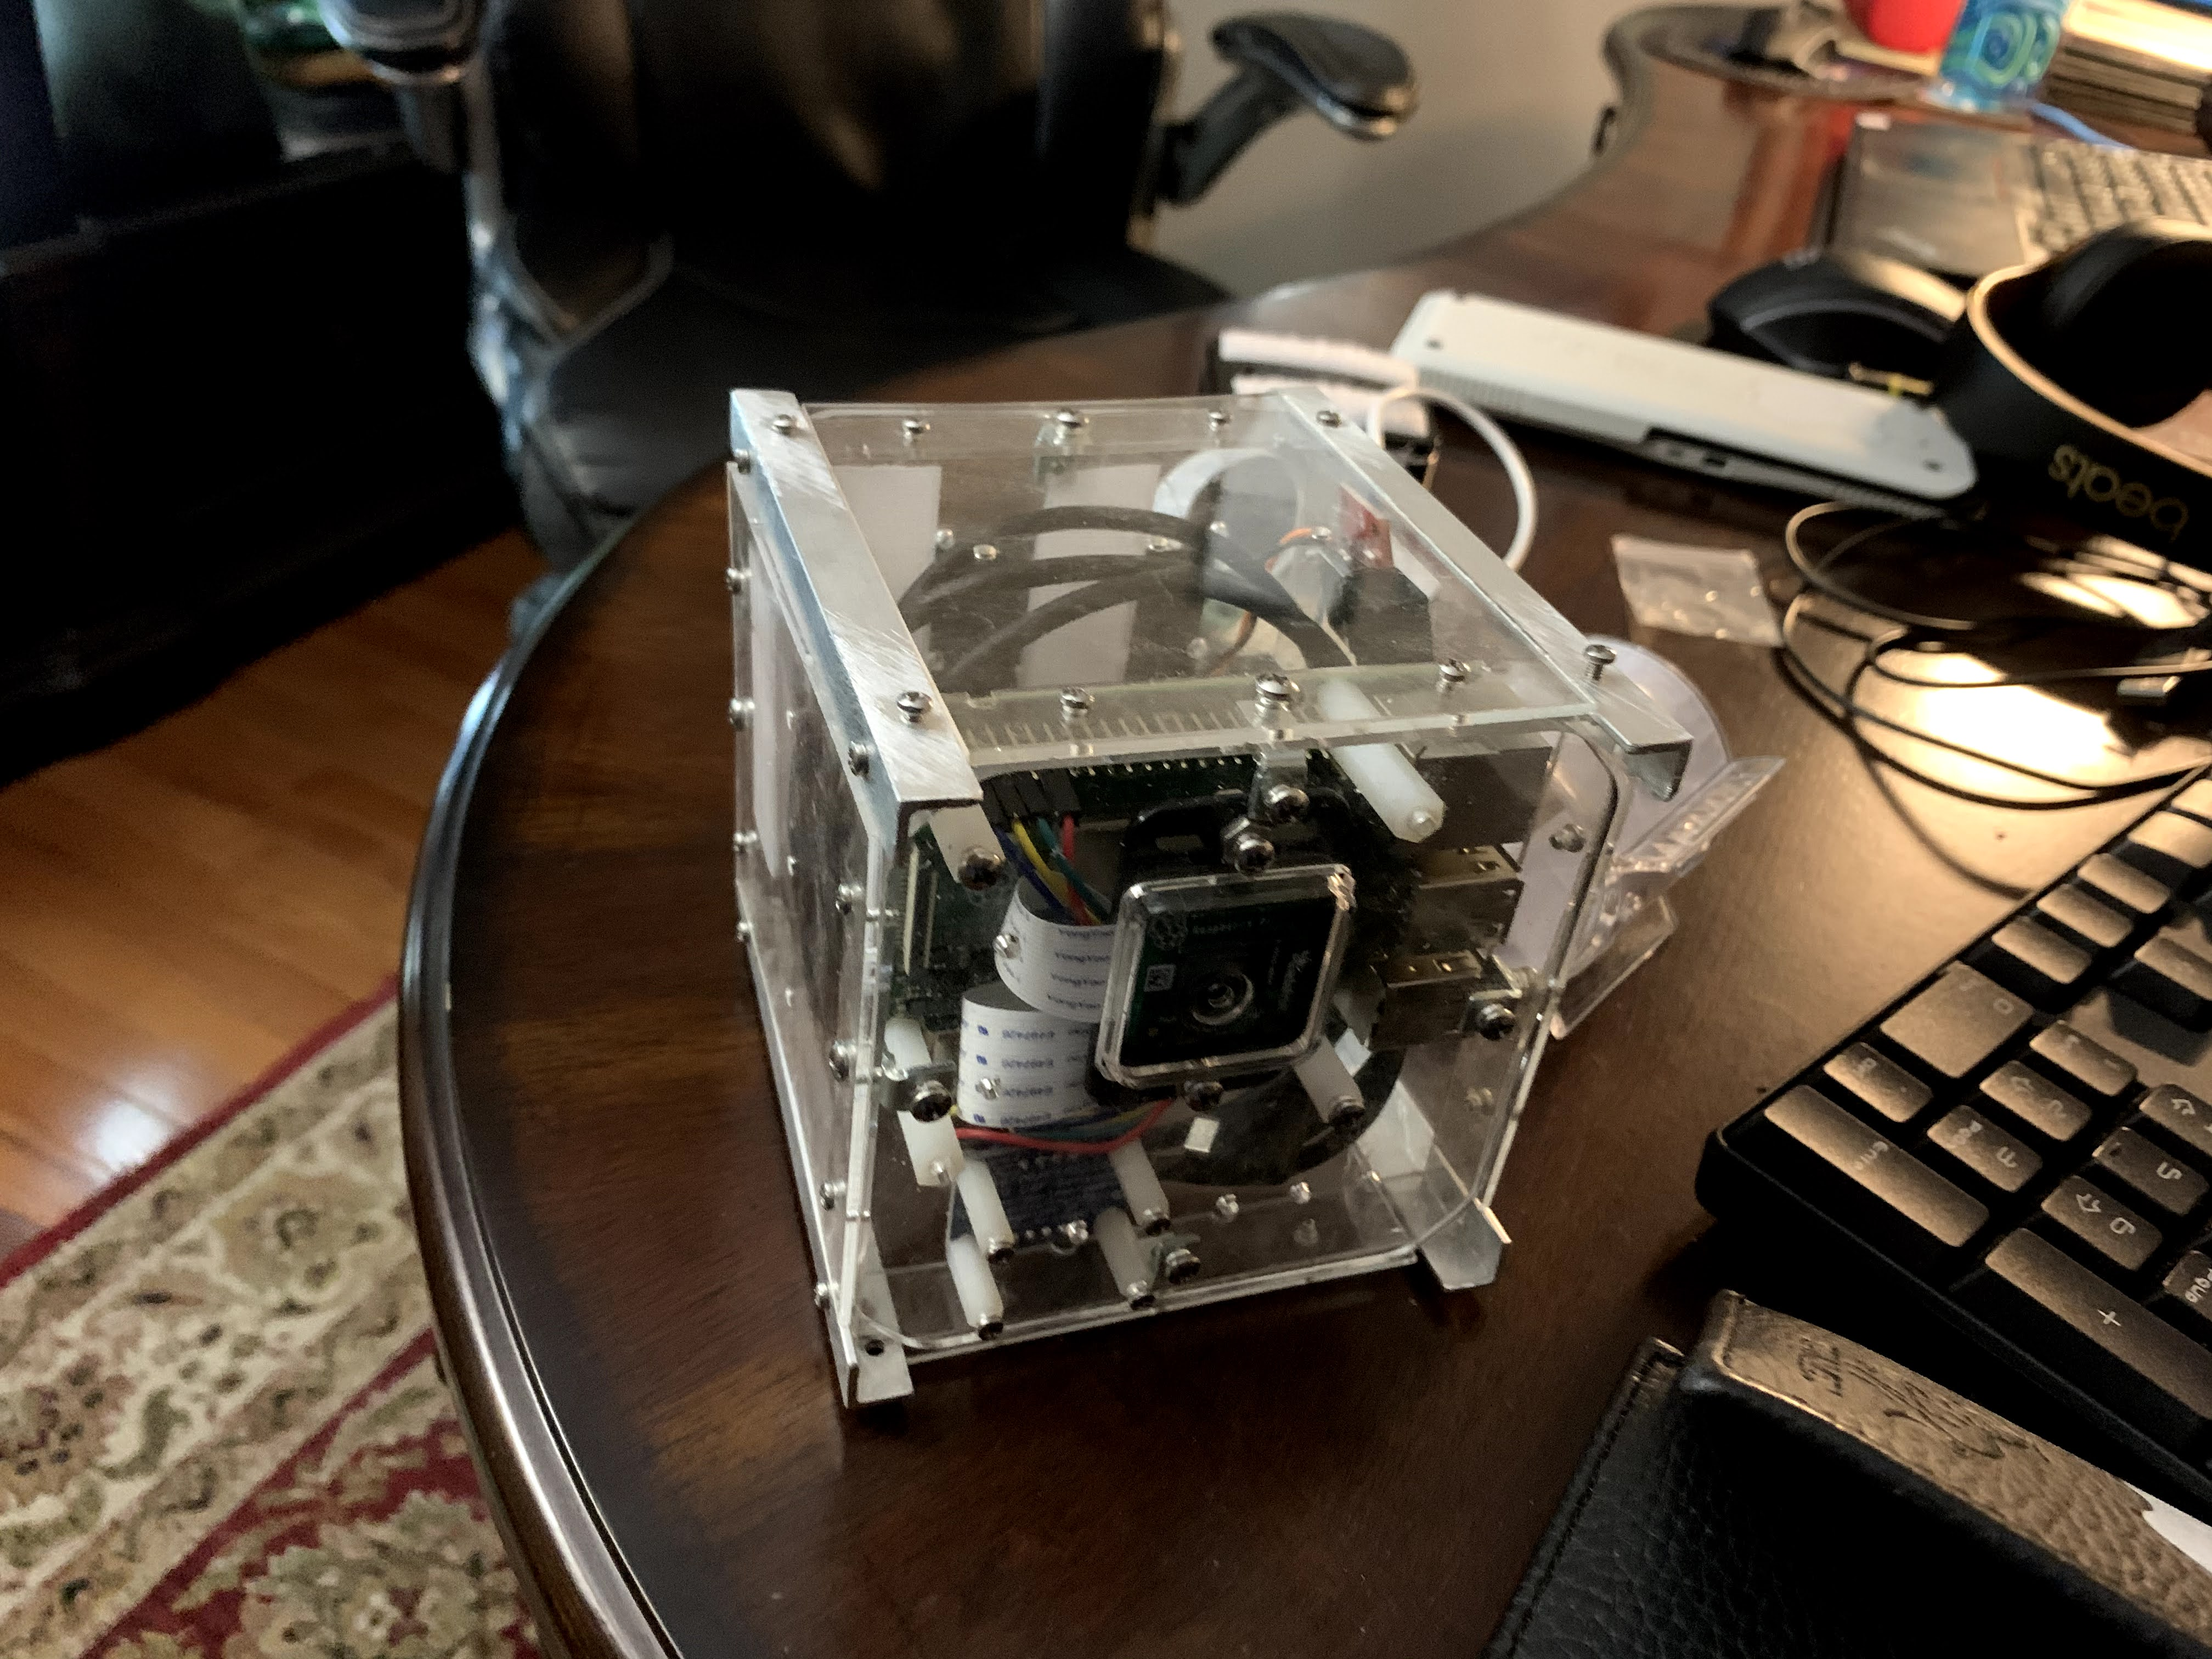Space-debris-cubesat: (672, 343, 1703, 1406)
